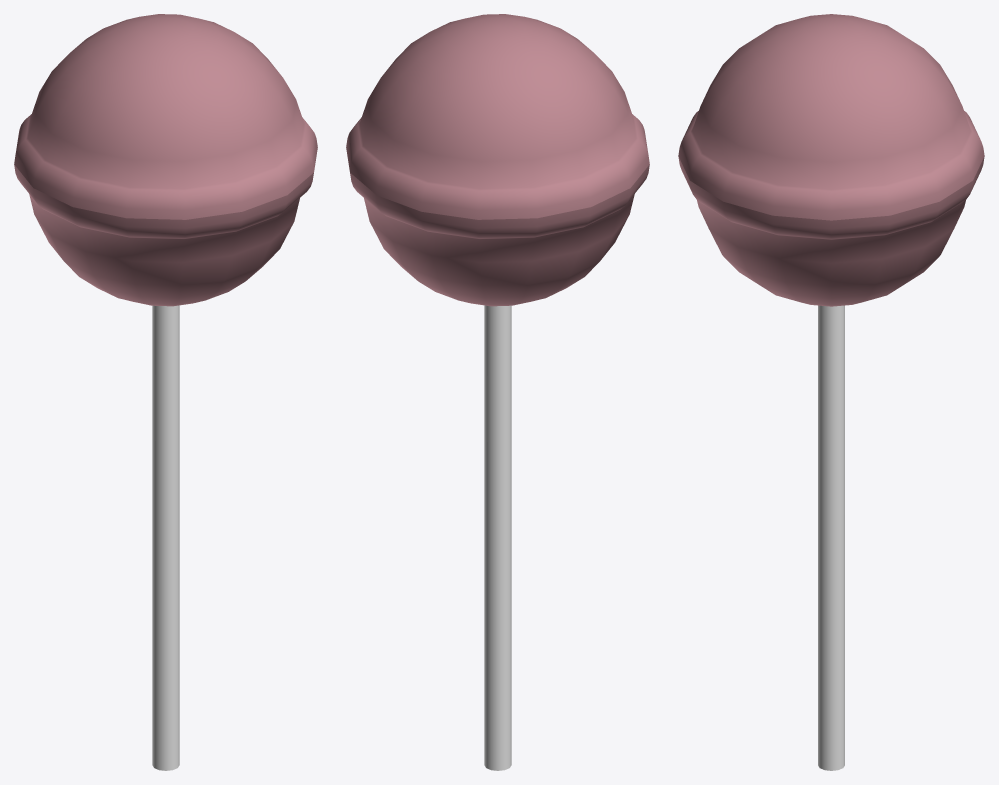
Rendered from Lollipop_3.fbx.
The picture shows the model from 3 angles, left to right: view 1: azimuth 30°, elevation 25°; view 2: azimuth 150°, elevation 25°; view 3: azimuth 270°, elevation 25°; orthographic projection.
Parts seen in each view (by area): view 1: Lollipop_3; view 2: Lollipop_3; view 3: Lollipop_3.
Part boxes in pixels (bbox=[...]): Lollipop_3: bbox=[14, 14, 317, 770]; Lollipop_3: bbox=[346, 14, 649, 770]; Lollipop_3: bbox=[678, 14, 984, 770].
Bounding box in the file's own units: 0.0277 × 0.0736 × 0.0277.
